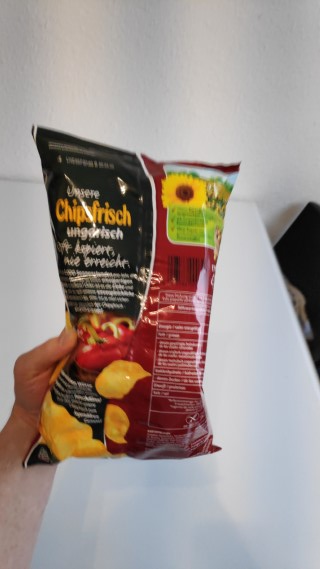chipsfrisch: (19, 123, 242, 469)
